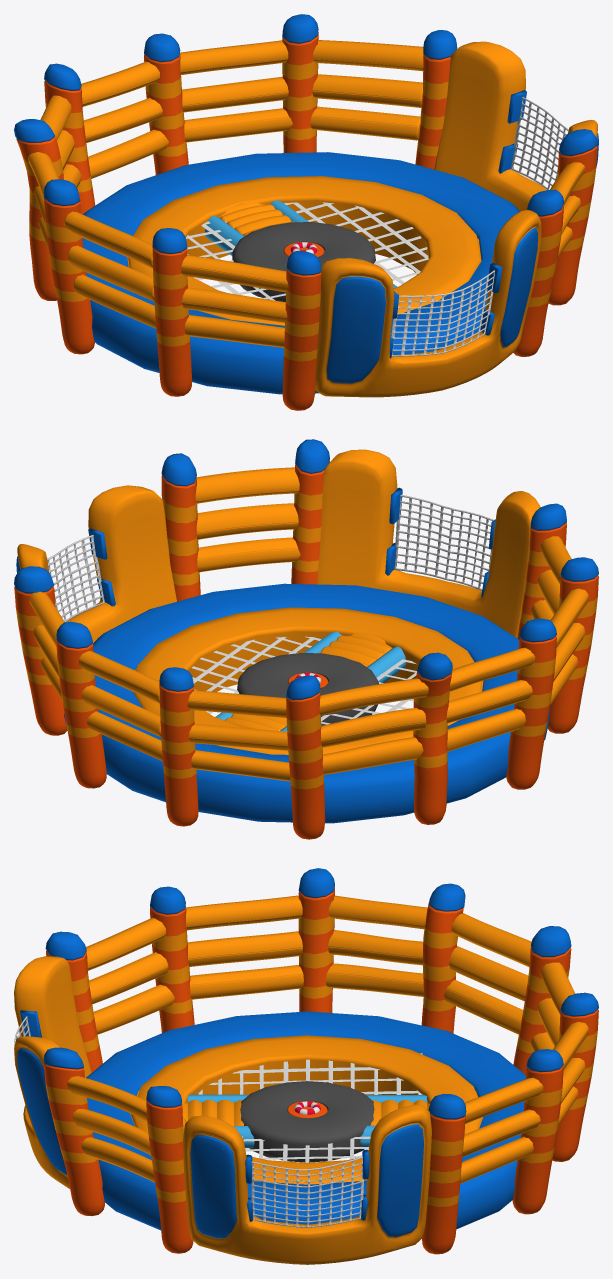
File: ringtop (1).fbx
3 renders of one model, top to bottom at view 1: azimuth 30°, elevation 25°; view 2: azimuth 150°, elevation 25°; view 3: azimuth 270°, elevation 25°, orthographic.
Visible parts, largest first — view 1: ringTop; view 2: ringTop; view 3: ringTop.
Boxes of the visible parts, left/top/right/bottom form: ringTop: left=14, top=14, right=598, bottom=410; ringTop: left=14, top=439, right=598, bottom=839; ringTop: left=14, top=868, right=598, bottom=1264.
Size of the model in its own units: 4504 by 1484 by 4509.
